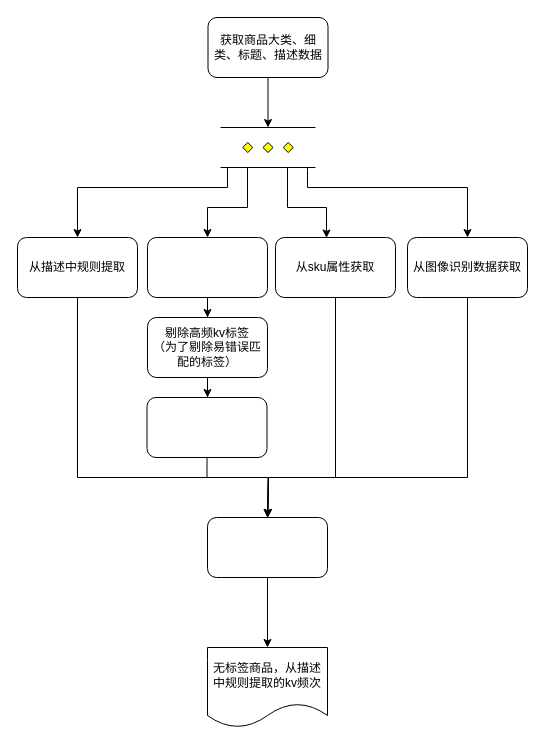
Some shapes in this 545 by 745 pixel diagram are drawn without their labels. Here are the shapes that lost their labels. From the top down, the centre of each, then its label:
pixel 207 267: 从标题、描述中匹配
pixel 206 427: 根据大类、细类过滤
pixel 267 547: 映射到标签体系
